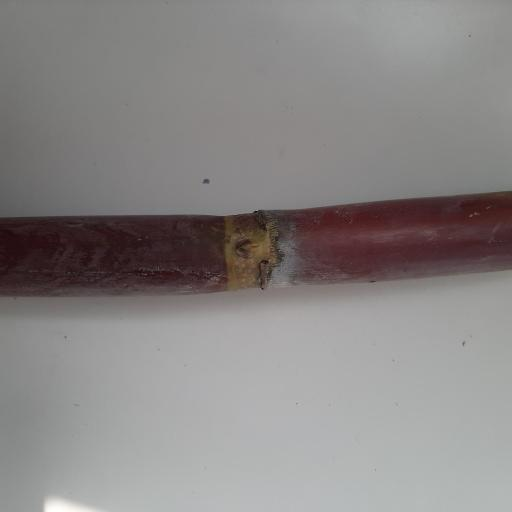Bud: (230, 236, 262, 260)
